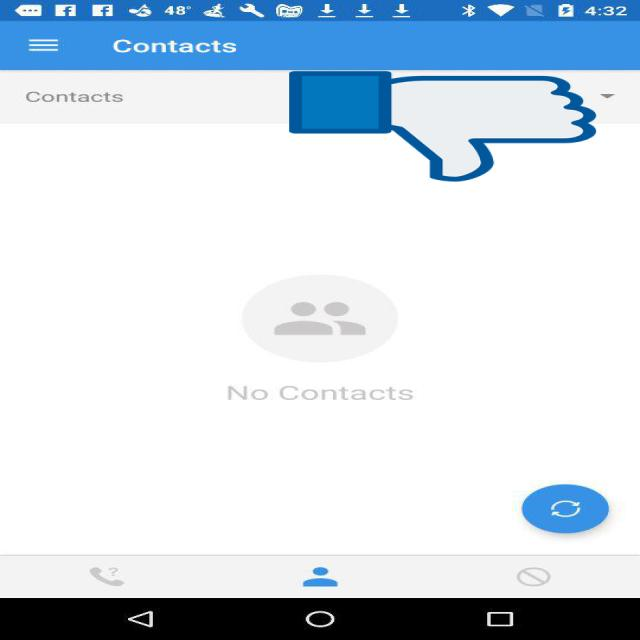obstruction: (289, 69, 596, 184)
